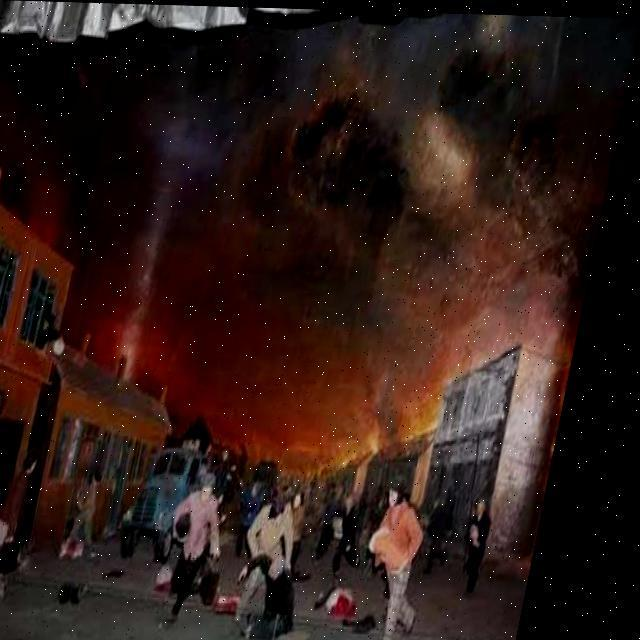Fire: (299, 326, 487, 474)
